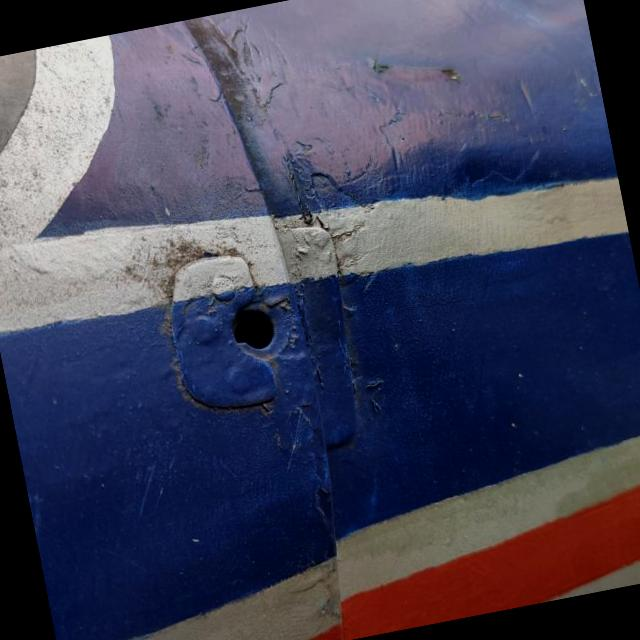Missing Fastener: (230, 303, 278, 354)
